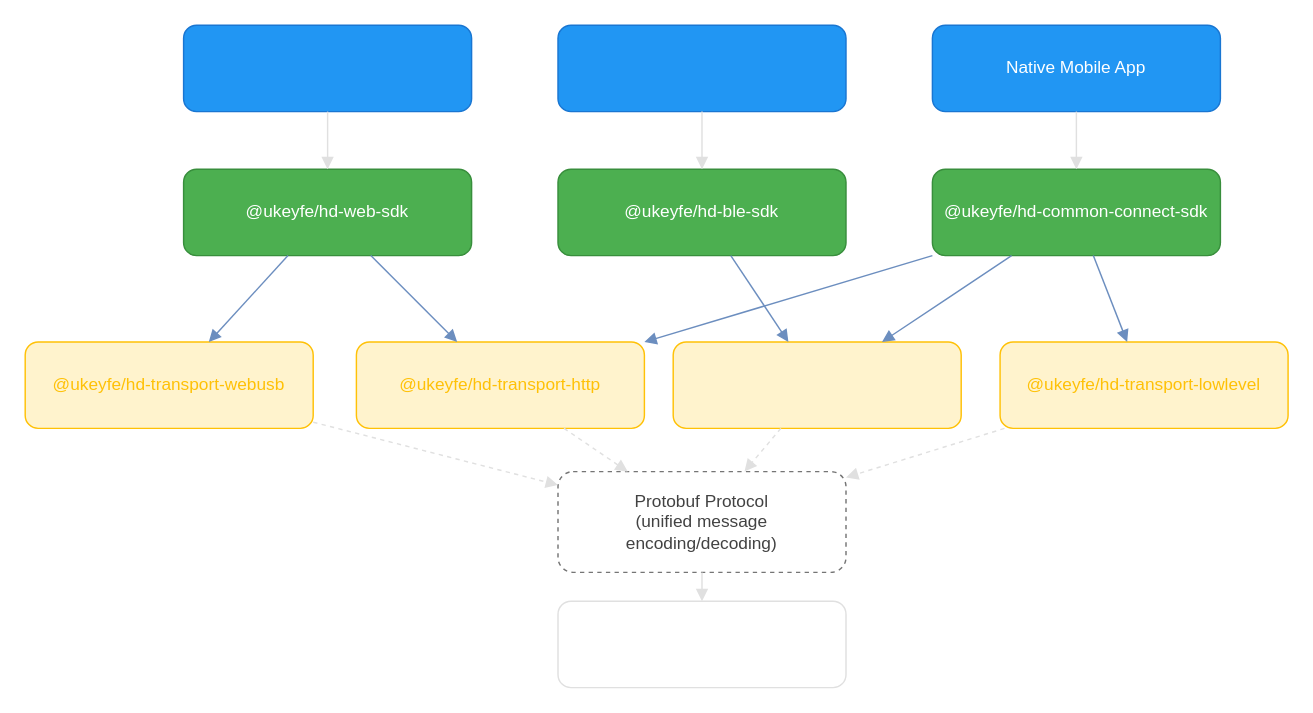
Some shapes in this 1313 by 713 pixel diagram are drawn without their labels. Each missing label, with the centre of its shape:
"@ukeyfe/hd-transport-ble" goes at (816,384).
"OneKey Hardware" goes at (701,644).
"React Native Mobile App" goes at (701,68).
"Web / Desktop App" goes at (327,68).
